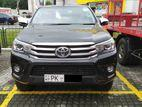car: (8, 5, 116, 92)
